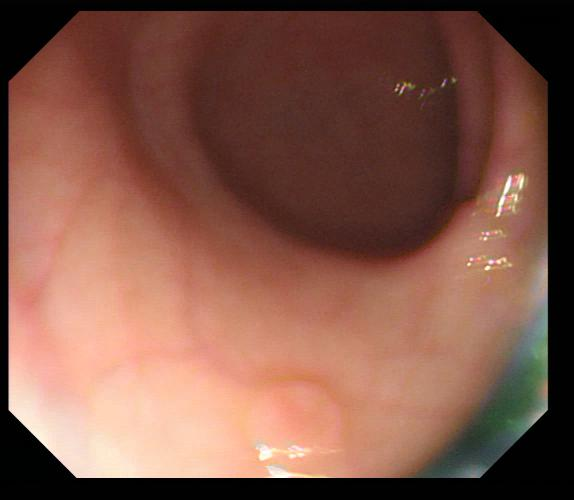polyp: (237, 376, 351, 463)
